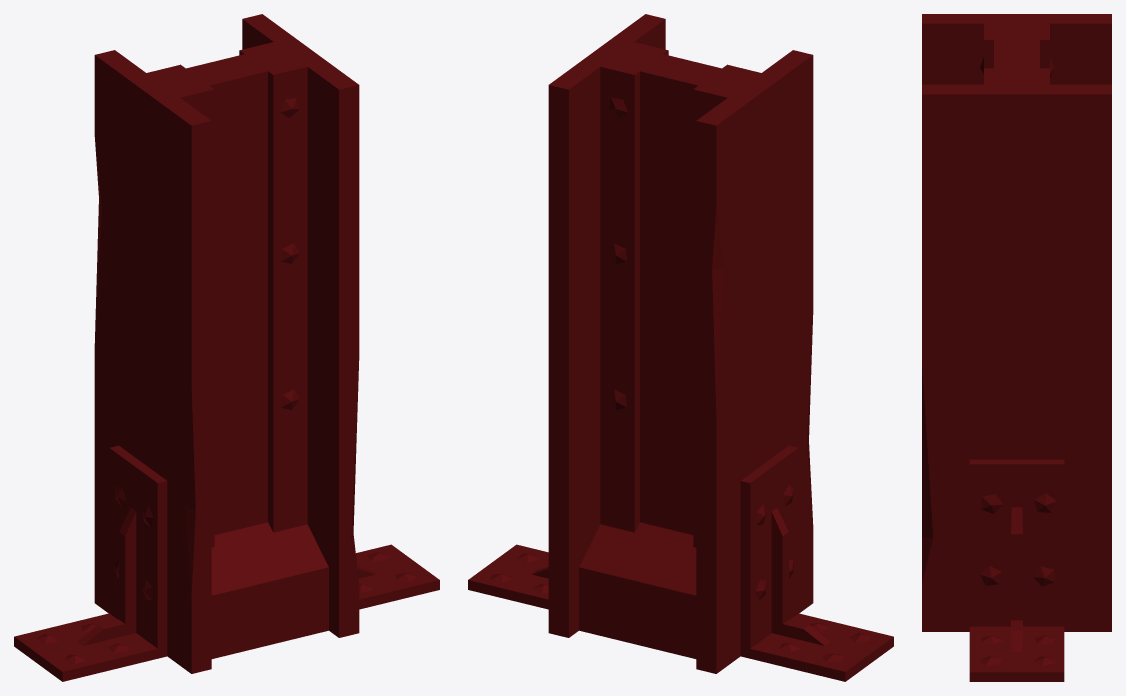
Rendered from SW_ENV_PillarGirderTrackBase.fbx.
The picture shows the model from 3 angles, left to right: view 1: azimuth 30°, elevation 25°; view 2: azimuth 150°, elevation 25°; view 3: azimuth 270°, elevation 25°; orthographic projection.
Parts seen in each view (by area): view 1: SW_ENV_PillarGirderTrackBase; view 2: SW_ENV_PillarGirderTrackBase; view 3: SW_ENV_PillarGirderTrackBase.
Boxes of the visible parts, x1,y1,x2,y2 form: SW_ENV_PillarGirderTrackBase: (14,14,439,681); SW_ENV_PillarGirderTrackBase: (468,14,893,681); SW_ENV_PillarGirderTrackBase: (922,14,1111,681).
Bounding box in the file's own units: 90 × 125 × 40.
